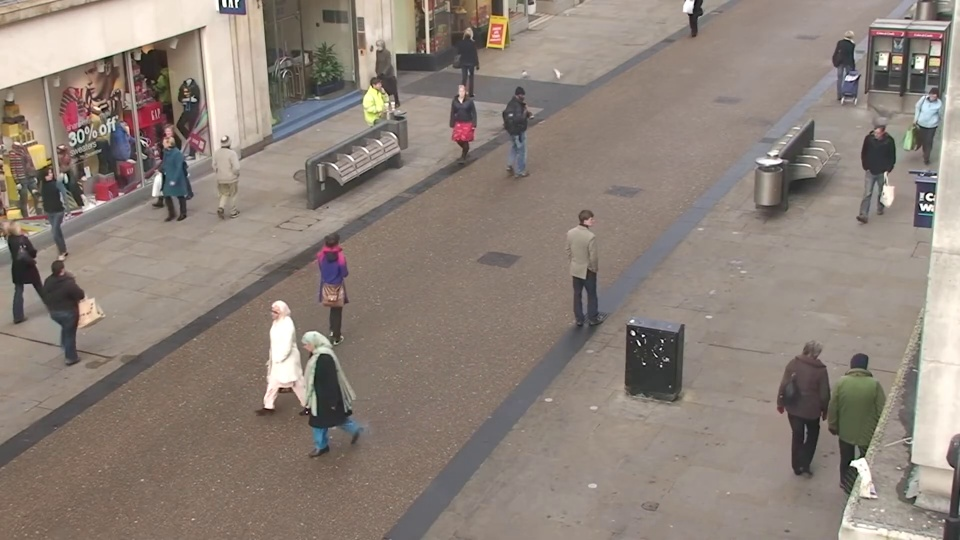pedestrian: (827, 338, 887, 495), (786, 326, 843, 478), (278, 324, 334, 472), (244, 291, 298, 431), (46, 249, 105, 377), (8, 211, 66, 329), (16, 168, 70, 275), (314, 223, 359, 347), (569, 204, 607, 325), (850, 123, 892, 223), (906, 86, 951, 179), (144, 137, 185, 236), (144, 121, 184, 215), (215, 127, 253, 224), (509, 83, 539, 170), (444, 83, 474, 169), (360, 74, 391, 157), (833, 27, 866, 103), (361, 38, 388, 111), (461, 22, 485, 92)
